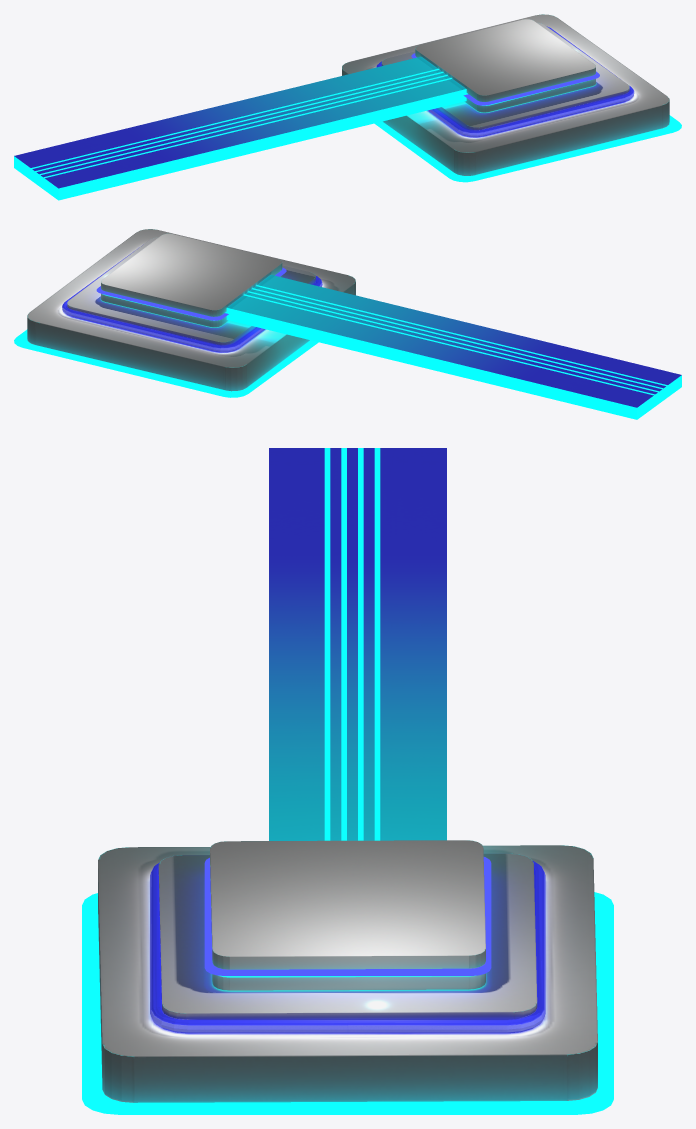
File: WORK_STUFF.glb
3 views of the same model, one above another, from view 1: azimuth 30°, elevation 25°; view 2: azimuth 150°, elevation 25°; view 3: azimuth 270°, elevation 25° (orthographic). The views are drawn at different scales.
Parts seen in each view (by area): view 1: Cube.006, Cube.003, Cube, Cube.004, Cube.002, Cube.005, Plane.003, Plane, Cube.001, Plane.002; view 2: Cube.006, Cube.003, Cube, Cube.004, Cube.002, Cube.005, Plane.003, Plane, Cube.001, Plane.002; view 3: Cube.006, Cube.003, Cube, Cube.002, Plane.003, Cube.005, Plane, Cube.001, Plane.002.
Part boxes in pixels (bbox=[...]): Cube.006: bbox=[14, 56, 465, 188]; Cube.003: bbox=[342, 14, 669, 175]; Cube: bbox=[415, 19, 595, 101]; Cube.004: bbox=[14, 89, 467, 200]; Cube.002: bbox=[381, 22, 629, 130]; Cube.005: bbox=[31, 69, 451, 178]; Plane.003: bbox=[374, 115, 681, 182]; Plane: bbox=[376, 26, 634, 137]; Cube.001: bbox=[464, 79, 595, 112]; Plane.002: bbox=[411, 53, 599, 105]; Cube.006: bbox=[227, 275, 681, 407]; Cube.003: bbox=[27, 229, 355, 391]; Cube: bbox=[101, 233, 282, 316]; Cube.004: bbox=[225, 308, 681, 419]; Cube.002: bbox=[67, 237, 315, 345]; Cube.005: bbox=[243, 285, 667, 395]; Plane.003: bbox=[14, 329, 318, 397]; Plane: bbox=[62, 251, 322, 352]; Cube.001: bbox=[101, 275, 282, 327]; Plane.002: bbox=[96, 267, 286, 320]; Cube.006: bbox=[269, 448, 446, 840]; Cube.003: bbox=[98, 845, 597, 1102]; Cube: bbox=[210, 840, 485, 969]; Cube.002: bbox=[158, 853, 537, 1019]; Plane.003: bbox=[82, 892, 613, 1114]; Cube.005: bbox=[324, 448, 380, 840]; Plane: bbox=[150, 860, 545, 1033]; Cube.001: bbox=[212, 973, 485, 990]; Plane.002: bbox=[204, 857, 491, 975].
Bounding box in the file's own units: 37.81 × 3.18 × 14.92.
10 materials, 6 textured.
